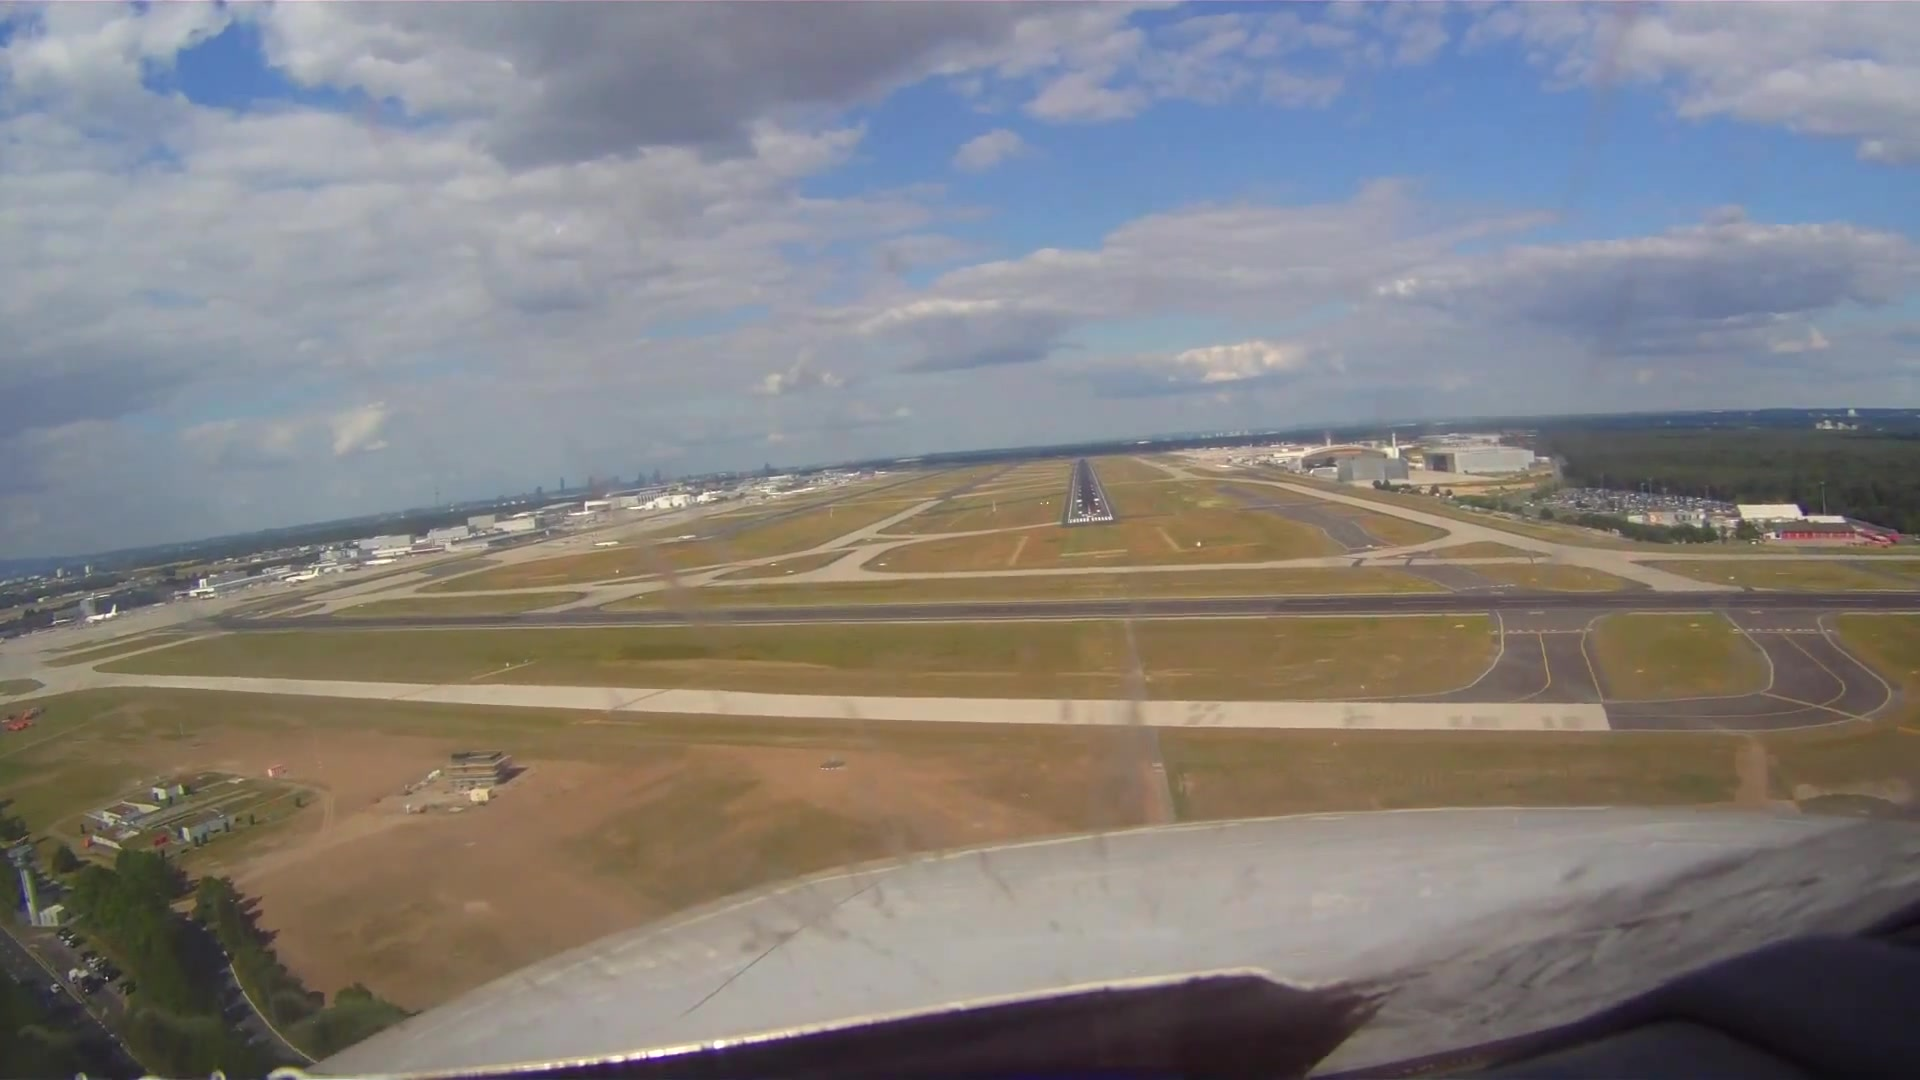entrance: (1067, 516, 1114, 524)
runway: (1062, 452, 1117, 530)
